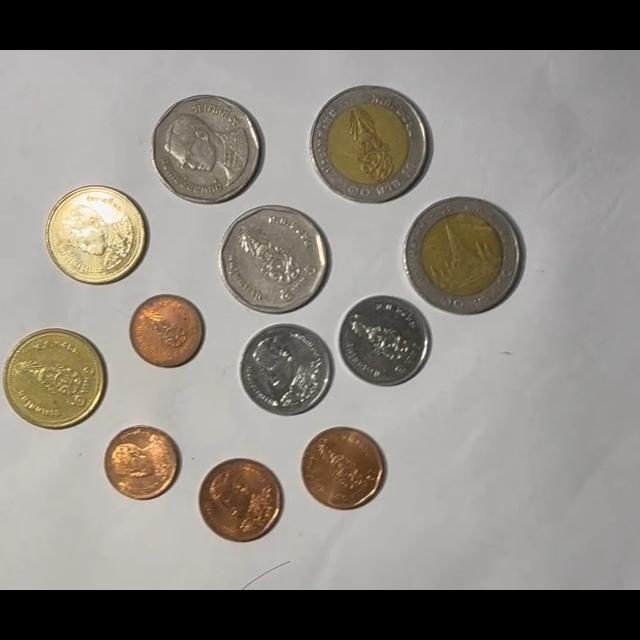1-baht: (238, 324, 332, 417), (338, 295, 431, 388)
10-baht: (309, 85, 429, 204), (403, 196, 523, 315)
2-baht: (3, 328, 106, 430), (45, 186, 146, 286)
25-satang: (104, 425, 180, 501), (129, 294, 204, 367)
5-baht: (151, 94, 263, 205), (219, 205, 330, 314)
50-satang: (197, 458, 282, 542), (300, 427, 386, 510)
